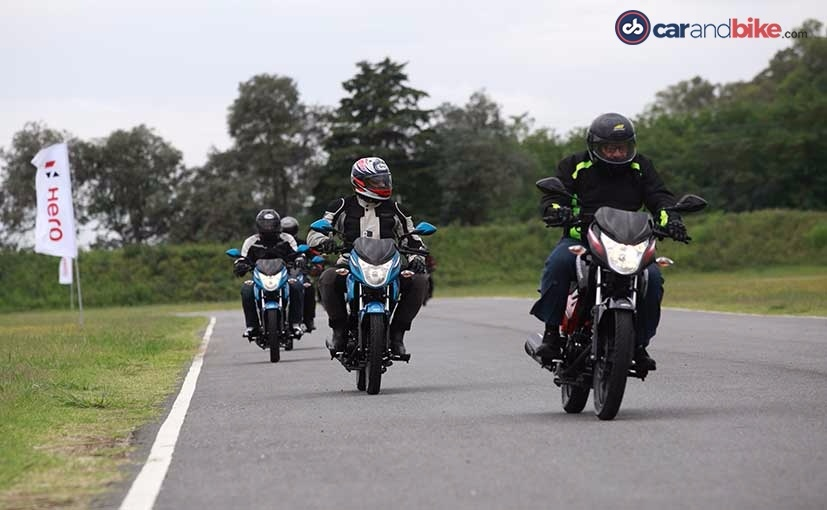helmet: (581, 108, 639, 177), (349, 154, 395, 202), (255, 207, 283, 238)
